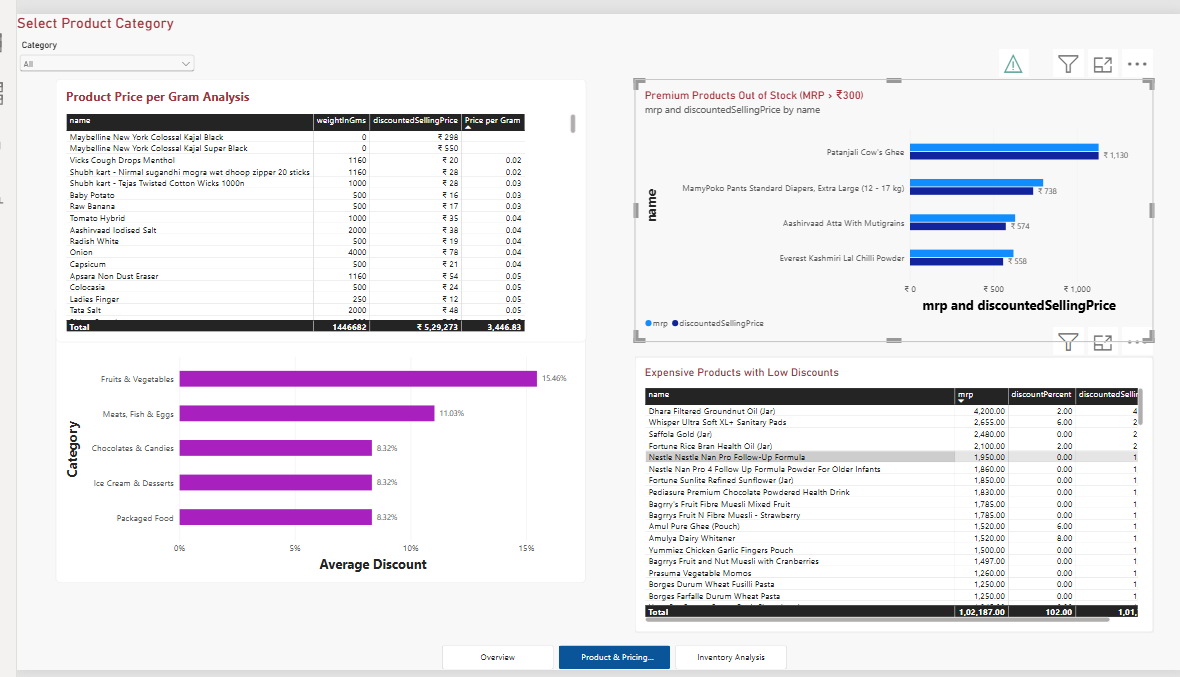

The page's visual inventory and layout, read from the dashboard file:
{"tool":"powerbi","page":{"name":"Product & Pricing Analysis","canvas":[1920,1080],"ordinal":1},"visuals":[{"type":"tableEx","title":"Expensive Products with Low Discounts","fields":{"Values":["zepto_cleaned.name","Sum(zepto_cleaned.mrp)","Sum(zepto_cleaned.discountPercent)","Sum(zepto_cleaned.discountedSellingPrice)"]},"box":[1016,564,855,455],"z":0},{"type":"clusteredBarChart","title":"Premium Products Out of Stock (MRP > ₹300)","fields":{"Category":["zepto_cleaned.name"],"Y":["Sum(zepto_cleaned.mrp)","Sum(zepto_cleaned.discountedSellingPrice)"]},"box":[1016.7,106.7,853.3,433.3],"z":1000},{"type":"clusteredBarChart","title":"Top 5 Categories by Average Discount","fields":{"Category":["zepto_cleaned.Category"],"Y":["zepto_cleaned.Average Discount"]},"box":[63.3,563.3,872.5,455],"z":2000},{"type":"tableEx","title":"Product Price per Gram Analysis","fields":{"Values":["zepto_cleaned.name","Sum(zepto_cleaned.weightInGms)","Sum(zepto_cleaned.discountedSellingPrice)","Sum(zepto_cleaned.Price per Gram)"]},"box":[63.3,106.7,873.3,433.3],"z":3000},{"type":"slicer","title":"Select Product Category","fields":{"Values":["zepto_cleaned.Category"]},"box":[0,0,296.7,296.7],"z":3001},{"type":"pageNavigator","box":[700,1040,570,40],"z":3002}]}

Visuals, with their boxes on the page's 1920x1080 design canvas (x1, y1, x2, y2). These are canvas units, not pixel positions in the 1180x677 screenshot, which may show the page scaled, cropped or inside an application window:
"Expensive Products with Low Discounts" tableEx: [left=1016, top=564, right=1871, bottom=1019]
"Premium Products Out of Stock (MRP > ₹300)" clusteredBarChart: [left=1017, top=107, right=1870, bottom=540]
"Top 5 Categories by Average Discount" clusteredBarChart: [left=63, top=563, right=936, bottom=1018]
"Product Price per Gram Analysis" tableEx: [left=63, top=107, right=937, bottom=540]
"Select Product Category" slicer: [left=0, top=0, right=297, bottom=297]
pageNavigator: [left=700, top=1040, right=1270, bottom=1080]
